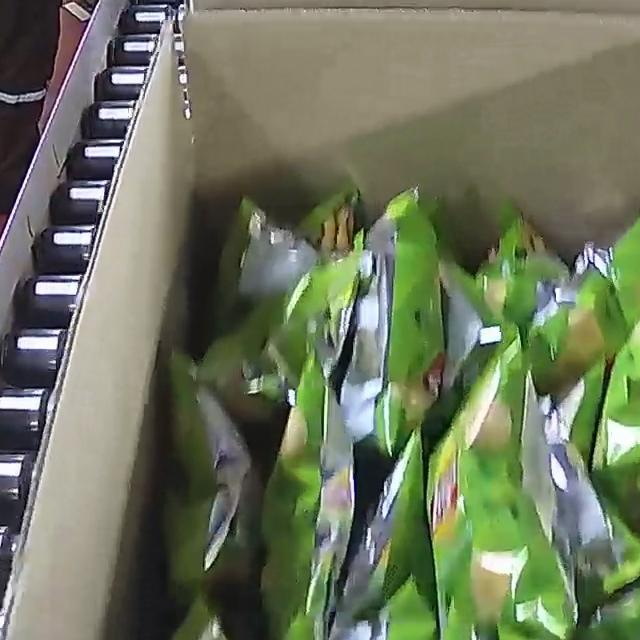yogurt: (152, 179, 640, 640)
